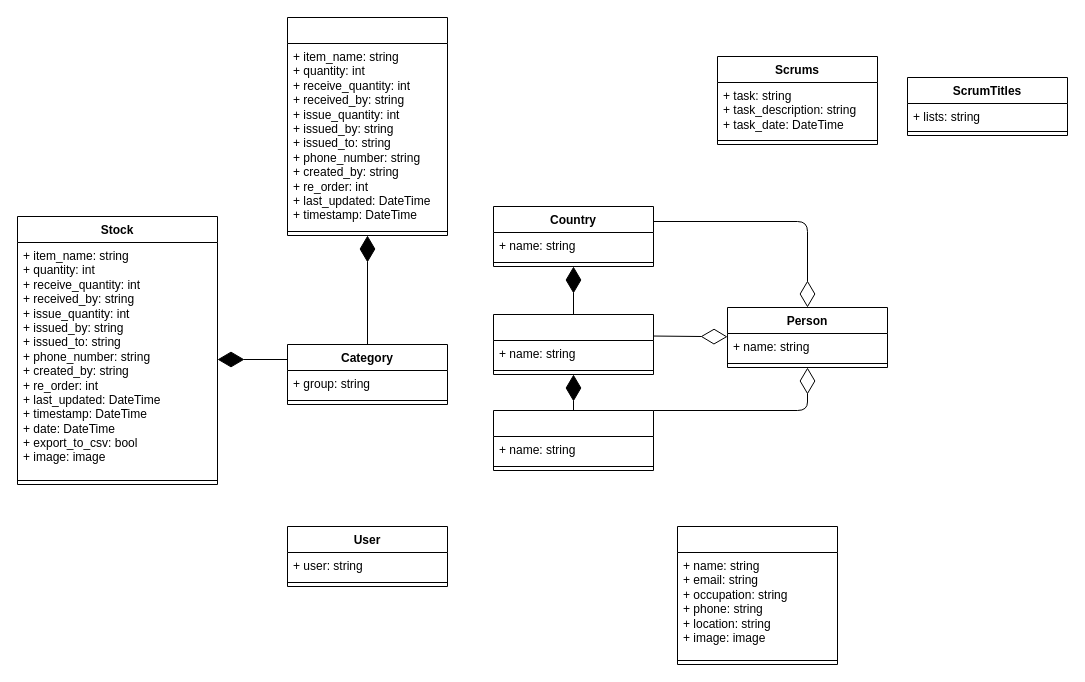
This 1085x682 diagram has some shape labels left out. The box of each missing label's shape, as (x1, y1, x2, y2) in pixels:
City: (492, 410, 654, 470)
Contacts: (676, 526, 838, 664)
State: (492, 314, 654, 374)
StockHistory: (286, 16, 448, 236)
